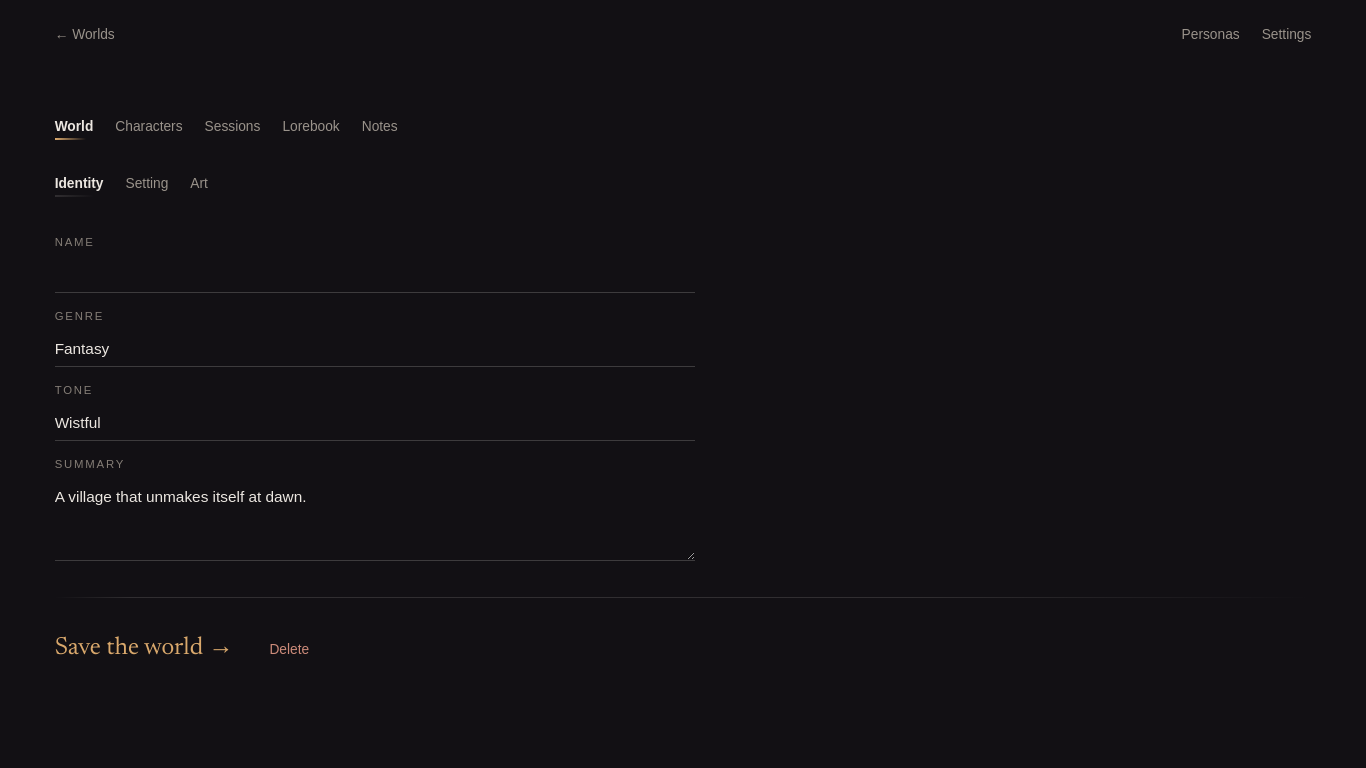
Test: world details › refuses a nameless world
Click the button "Save the world →": click(144, 650) [55,634,233,665]
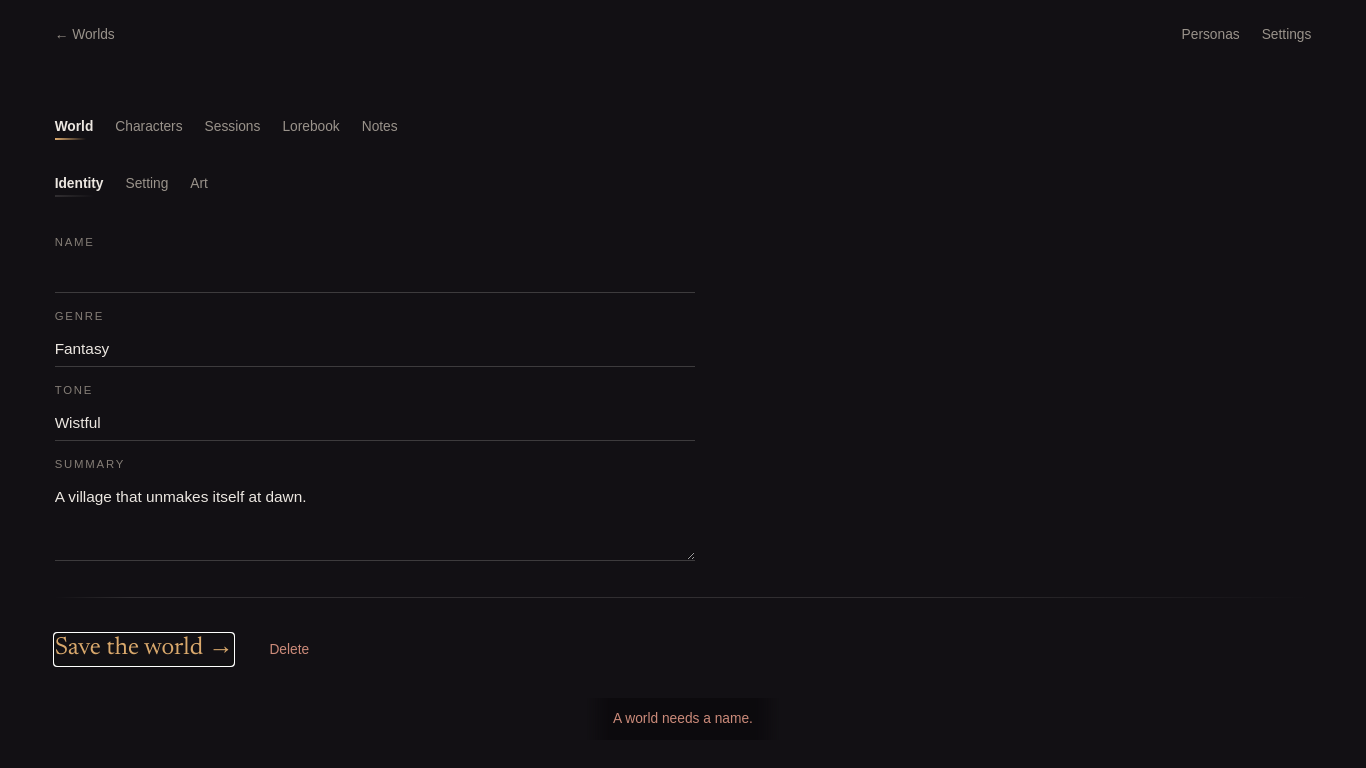
Expected: the text "A world needs a name." is shown, [587,698,779,740]
